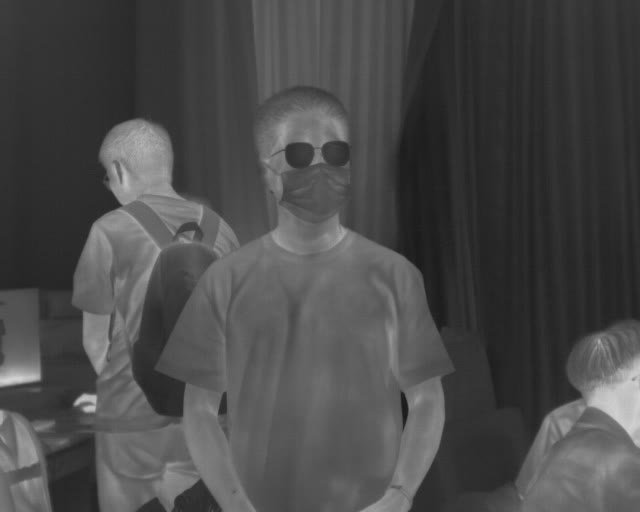face: (522, 122, 632, 256), (223, 192, 313, 304)
